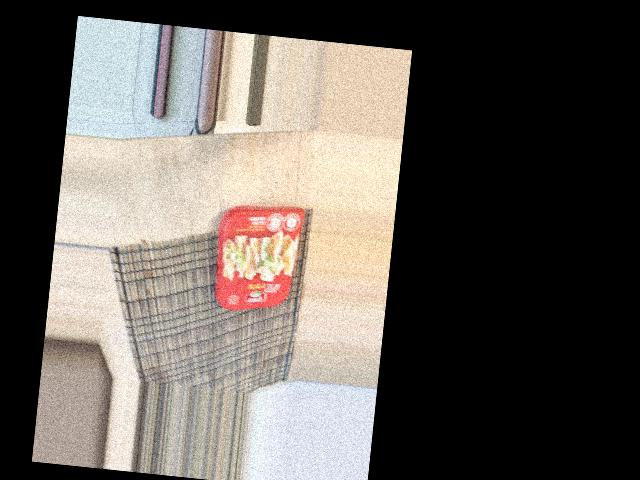cheese: (96, 181, 232, 284)
